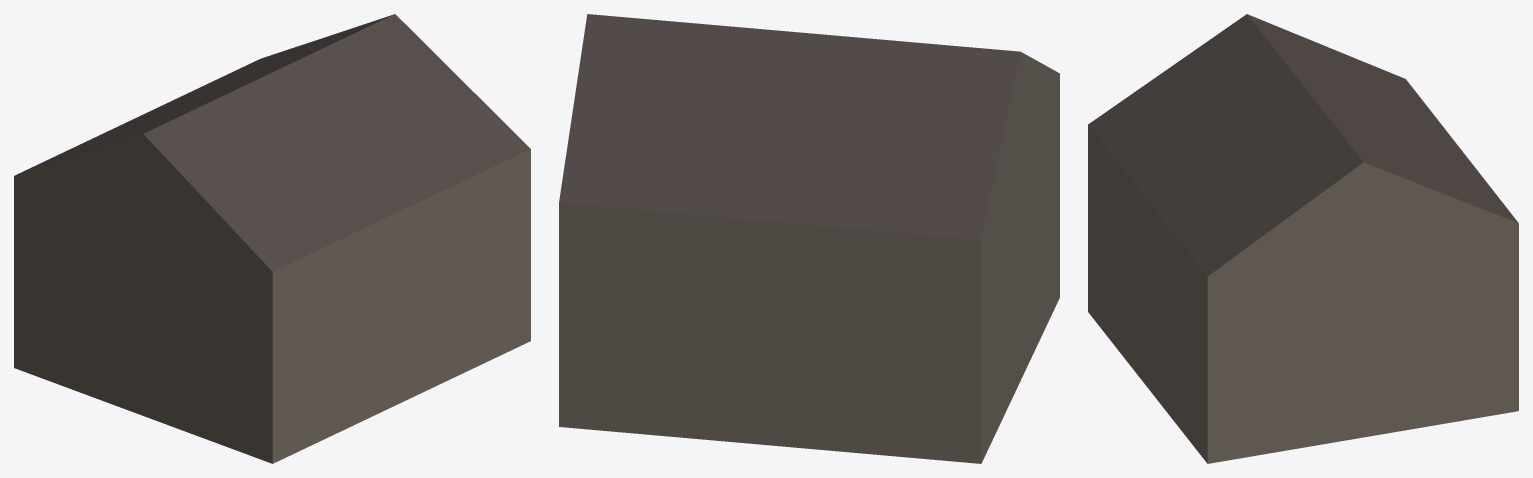
3 renders of one model, left to right at view 1: azimuth 30°, elevation 25°; view 2: azimuth 150°, elevation 25°; view 3: azimuth 270°, elevation 25°, orthographic. The views are drawn at different scales.
Parts seen in each view (by area): view 1: HP-w1198645105; view 2: HP-w1198645105; view 3: HP-w1198645105.
Boxes of the visible parts, bbox=[...] form: HP-w1198645105: bbox=[14, 14, 530, 463]; HP-w1198645105: bbox=[559, 14, 1059, 463]; HP-w1198645105: bbox=[1088, 14, 1518, 463].
Size of the model in its own units: 13.57 by 8.81 by 12.51.
